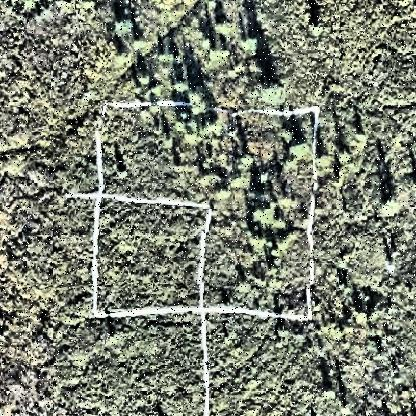tree-top: (199, 116, 228, 144), (181, 87, 211, 112), (250, 202, 276, 228), (264, 70, 290, 95), (211, 24, 235, 51), (378, 194, 404, 218), (241, 30, 266, 54), (201, 168, 223, 193), (214, 16, 238, 38), (249, 231, 273, 253), (211, 40, 235, 62), (113, 13, 135, 35), (289, 139, 311, 159), (237, 153, 258, 173), (228, 170, 249, 190), (131, 30, 151, 50), (174, 77, 193, 95), (280, 126, 298, 145), (307, 17, 325, 35), (256, 167, 274, 184), (137, 70, 154, 87), (318, 148, 334, 165), (356, 306, 373, 322), (159, 49, 176, 65), (337, 146, 353, 162), (323, 384, 339, 400), (358, 288, 374, 304), (118, 166, 132, 178)
